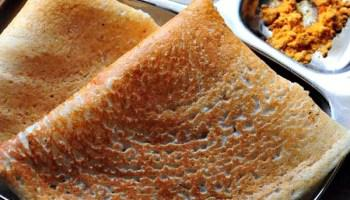dosa: (2, 2, 345, 199)
